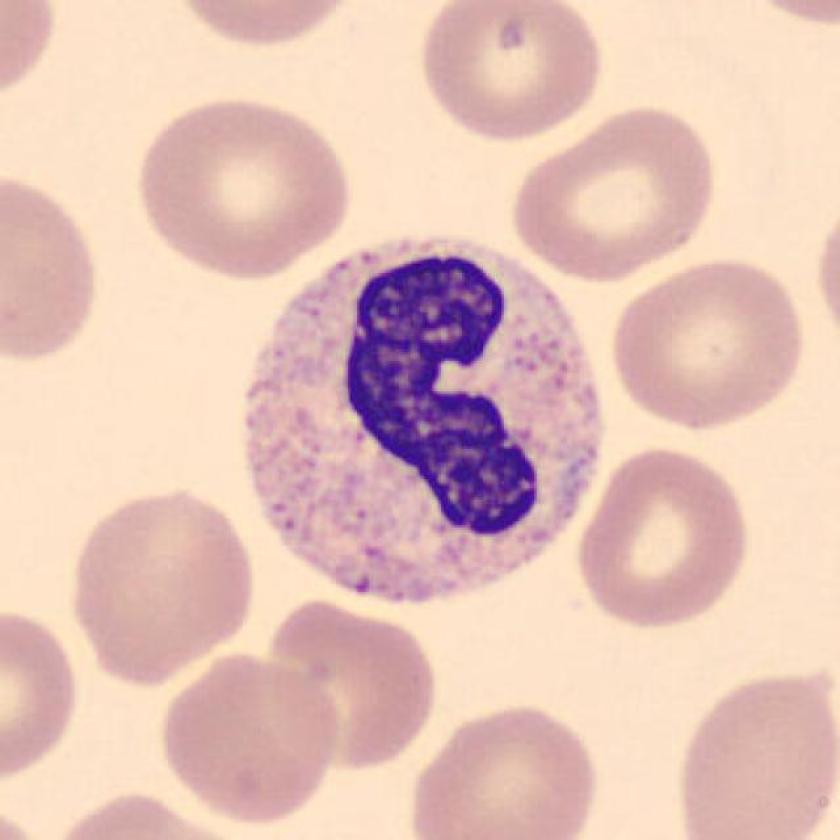neutrophil: (241, 239, 602, 605)
